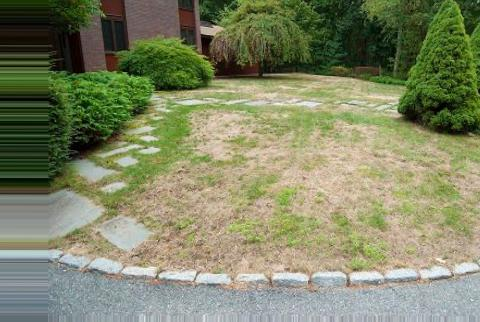patch: (316, 151, 363, 202), (397, 232, 451, 256), (174, 235, 213, 262), (217, 242, 262, 265), (204, 130, 226, 159), (263, 144, 282, 164), (282, 168, 304, 183), (276, 253, 304, 264), (197, 196, 214, 210)
